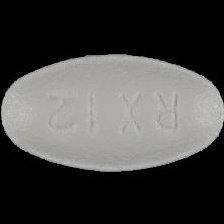43063-373: (0, 0, 224, 224)
